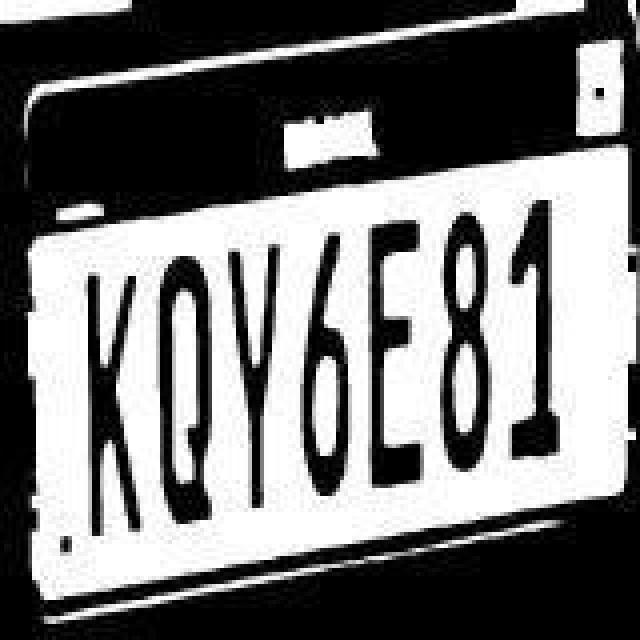1: (500, 198, 572, 482)
6: (294, 226, 362, 510)
8: (432, 212, 496, 492)
E: (352, 214, 432, 498)
K: (66, 248, 142, 536)
Q: (152, 236, 216, 532)
Y: (226, 228, 286, 516)
